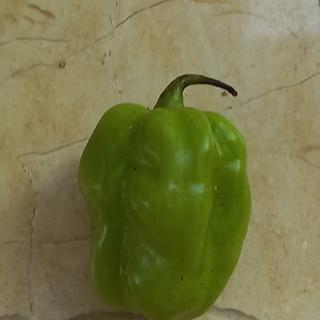Grade-A: (76, 97, 261, 320)
